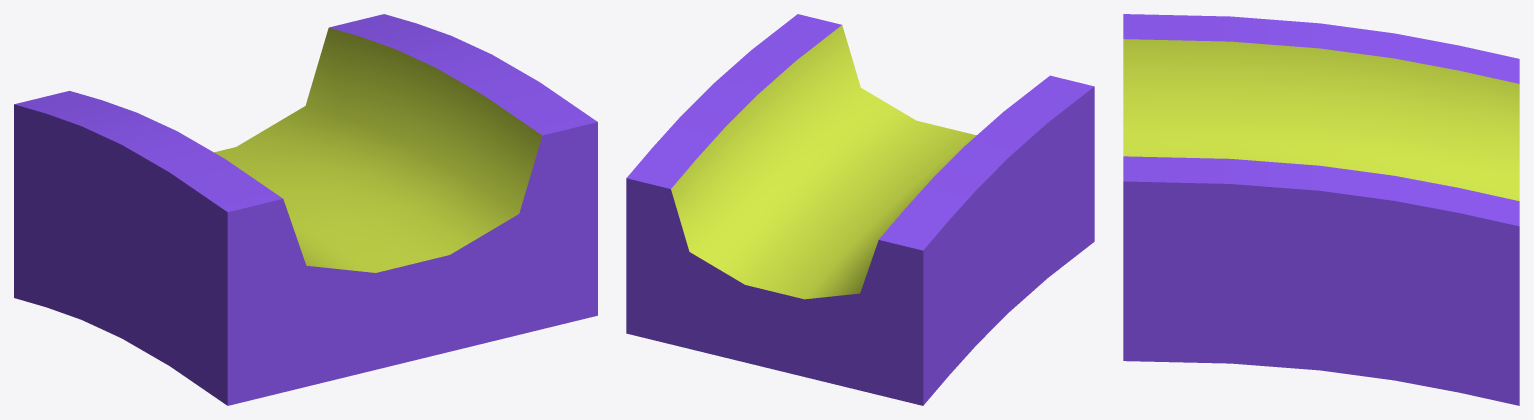
File: rampEnd_A.fbx
The picture shows the model from 3 angles, left to right: view 1: azimuth 30°, elevation 25°; view 2: azimuth 150°, elevation 25°; view 3: azimuth 270°, elevation 25°; orthographic projection. The views are drawn at different scales.
Visible parts, largest first — view 1: rampEnd_A; view 2: rampEnd_A; view 3: rampEnd_A.
Part boxes in pixels (box(x1,y1,x2,y2)): rampEnd_A: box(14, 14, 597, 405); rampEnd_A: box(626, 14, 1094, 405); rampEnd_A: box(1123, 14, 1519, 405).
Bounding box in the file's own units: 10 × 6.25 × 10.
